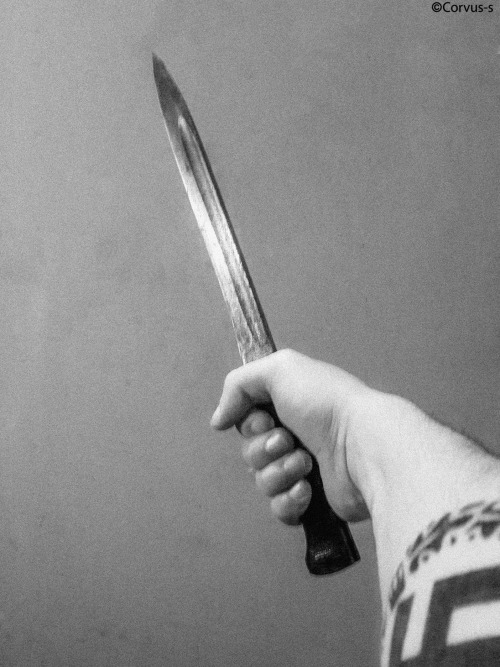knife: (143, 42, 315, 465)
